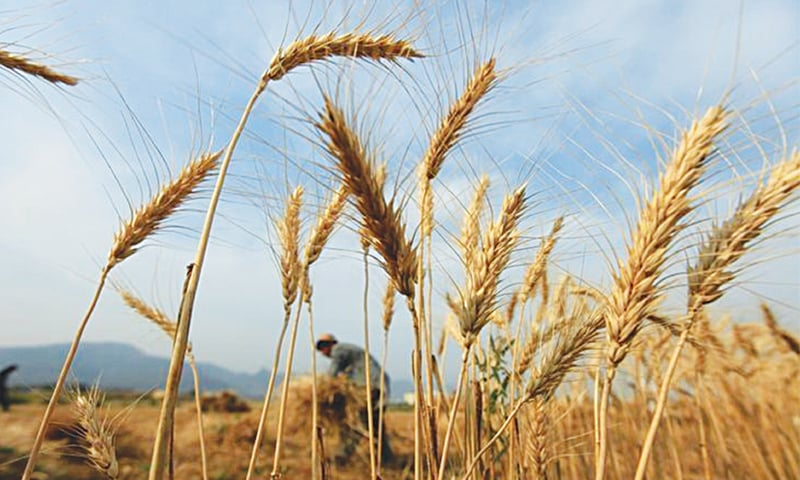wheat: (250, 1, 503, 443), (598, 94, 797, 399), (48, 121, 240, 326), (455, 158, 590, 434)
